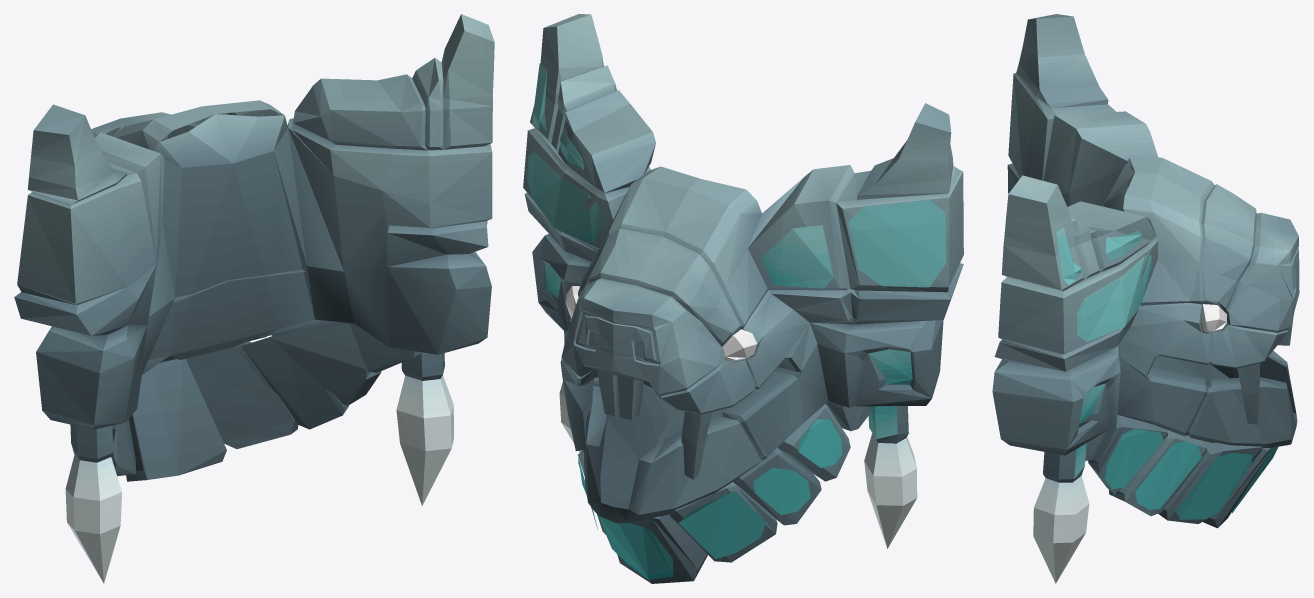
The model's file is CharSkyKid_Mask_AP08Bat.glb.
3 views of the same model, side by side, from view 1: azimuth 30°, elevation 25°; view 2: azimuth 150°, elevation 25°; view 3: azimuth 270°, elevation 25° (orthographic). The views are drawn at different scales.
Parts seen in each view (by area): view 1: CharSkyKid_Mask_AP08Bat; view 2: CharSkyKid_Mask_AP08Bat; view 3: CharSkyKid_Mask_AP08Bat.
Part boxes in pixels (box(x1,y1,x2,y2)): CharSkyKid_Mask_AP08Bat: box(14, 14, 494, 583); CharSkyKid_Mask_AP08Bat: box(523, 14, 963, 583); CharSkyKid_Mask_AP08Bat: box(992, 14, 1299, 583).
Size of the model in its own units: 3.9 by 3.86 by 2.55.
1 material, 1 textured.
